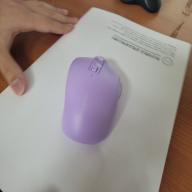mouse: (61, 55, 122, 146)
